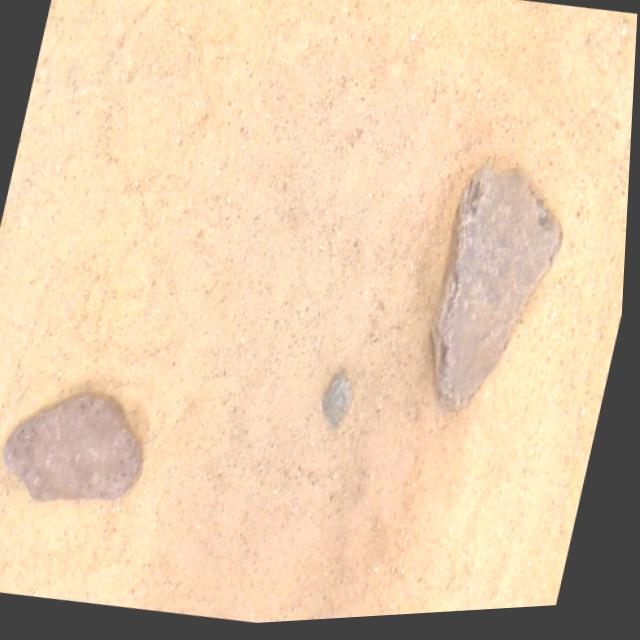rock: (436, 172, 565, 414), (9, 394, 146, 501), (326, 375, 357, 429)
